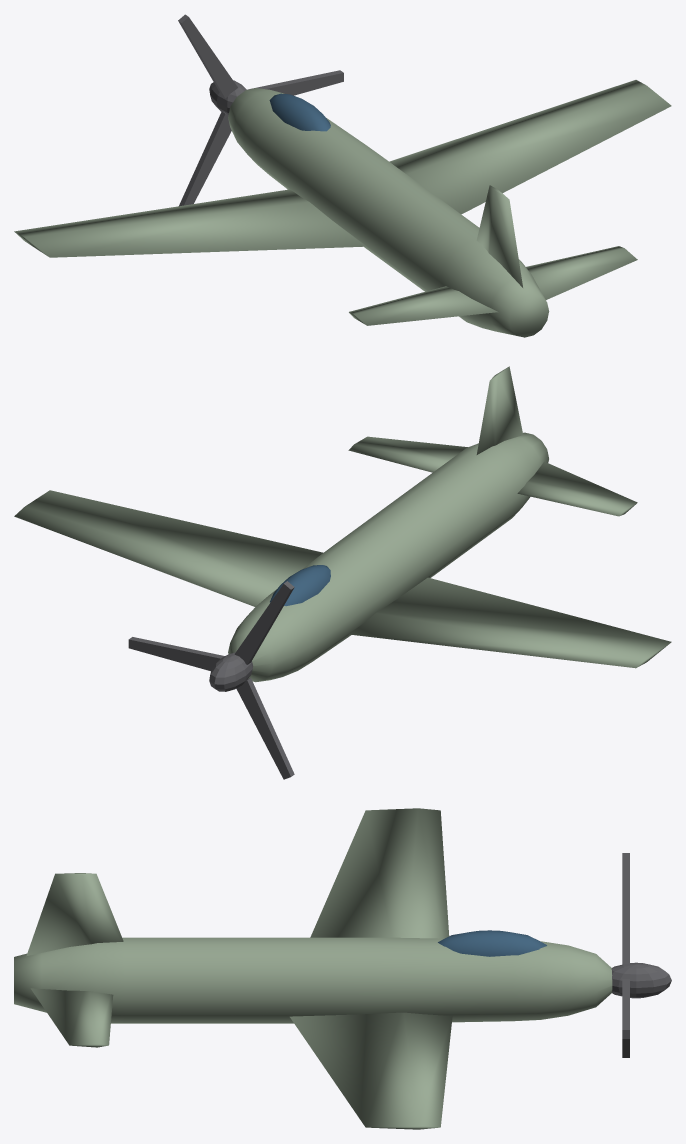
File: spitfire.fbx
3 renders of one model, top to bottom at view 1: azimuth 30°, elevation 25°; view 2: azimuth 150°, elevation 25°; view 3: azimuth 270°, elevation 25°, orthographic. The views are drawn at different scales.
Visible parts, largest first — view 1: Body, Detail, Canopy; view 2: Body, Detail, Canopy; view 3: Body, Detail, Canopy.
Boxes of the visible parts, x1=… form: Body: x1=14, y1=80, x2=671, y2=337; Detail: x1=178, y1=14, x2=343, y2=206; Canopy: x1=269, y1=93, x2=330, y2=131; Body: x1=14, y1=366, x2=671, y2=682; Detail: x1=128, y1=581, x2=294, y2=779; Canopy: x1=270, y1=565, x2=330, y2=606; Body: x1=14, y1=808, x2=612, y2=1129; Detail: x1=611, y1=853, x2=671, y2=1057; Canopy: x1=438, y1=930, x2=546, y2=956.
Size of the model in its own units: 1120 by 345 by 982.
